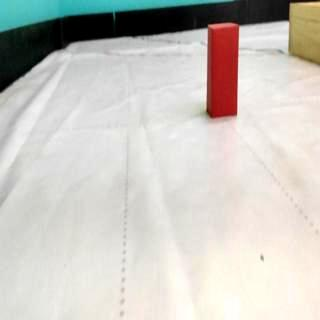redbox: (207, 23, 239, 118)
